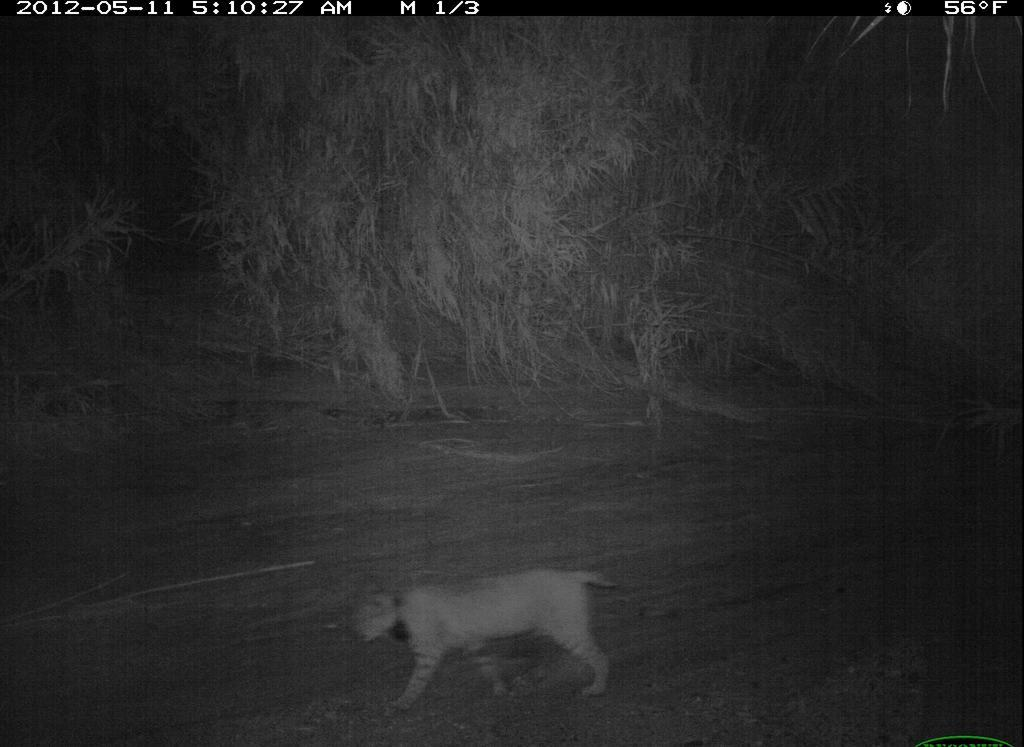bobcat: (338, 557, 619, 719)
